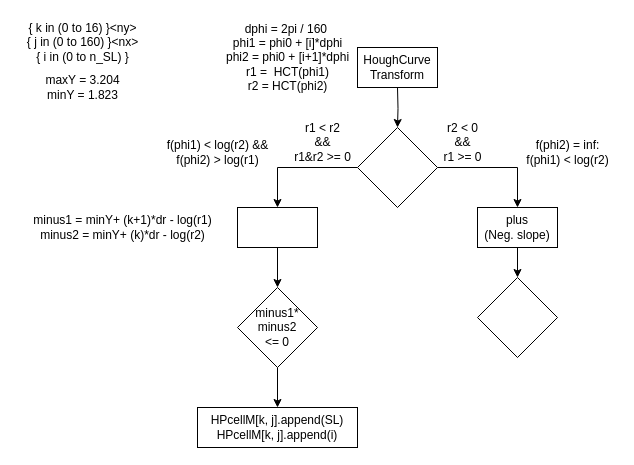
The diagram is 634 pixels wide and 465 high, and some of its shapes have lost their labels. The box of each missing label's shape, as (x1, y1, x2, y2) in pixels:
minus (Pos. slope): (236, 206, 318, 248)
vertical / horizontal: (356, 126, 438, 208)
